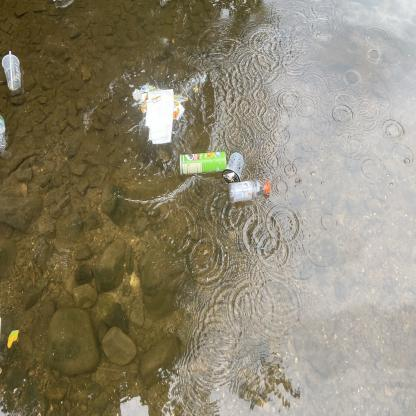trash: (128, 81, 188, 149), (173, 146, 231, 180), (225, 176, 276, 206), (0, 43, 27, 96), (220, 148, 249, 184), (0, 108, 12, 154)
